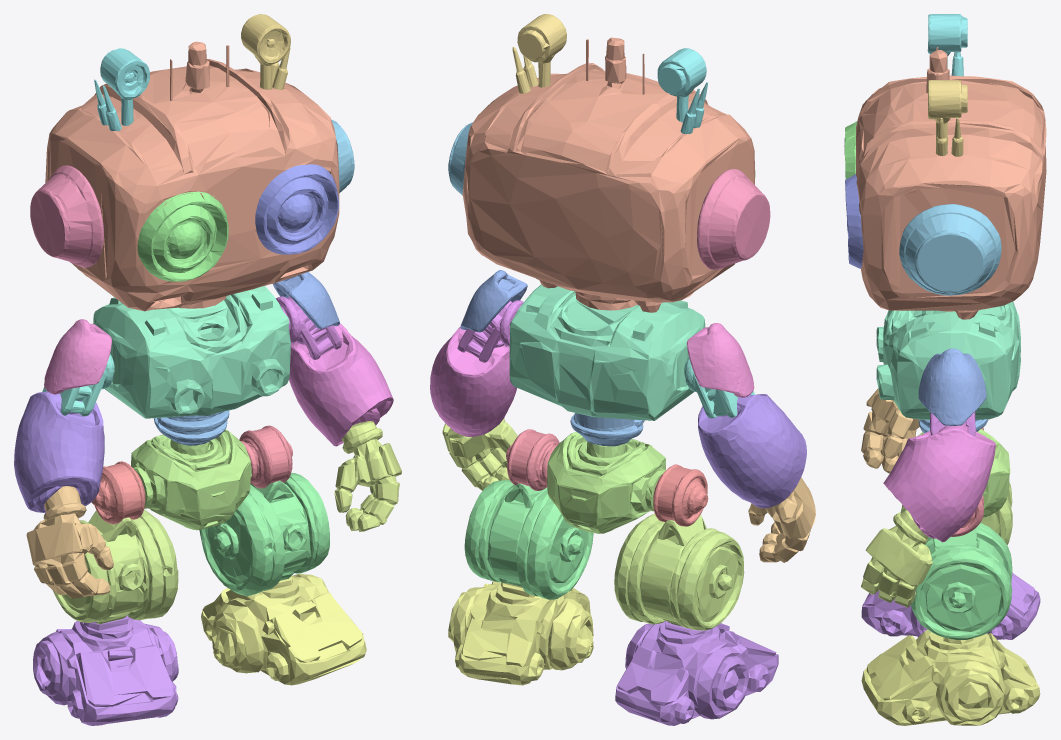
The model's file is 2.robot.glb.
3 renders of one model, left to right at view 1: azimuth 30°, elevation 25°; view 2: azimuth 150°, elevation 25°; view 3: azimuth 270°, elevation 25°, orthographic. The views are drawn at different scales.
Parts seen in each view (by area): view 1: robot__geometry_18_046, robot__geometry_19_044, robot__geometry_20_035, robot__geometry_12_093, robot__geometry_11_093, robot__geometry_16_073, robot__geometry_7_096, robot__geometry_3_097, robot__geometry_6_096, robot__geometry_23_018, robot__geometry_4_096, robot__geometry_17_054 (+12 smaller); view 2: robot__geometry_18_046, robot__geometry_19_044, robot__geometry_12_093, robot__geometry_7_096, robot__geometry_20_035, robot__geometry_11_093, robot__geometry_16_073, robot__geometry_3_097, robot__geometry_6_096, robot__geometry_22_018, robot__geometry_15_079, robot__geometry_4_096 (+10 smaller); view 3: robot__geometry_18_046, robot__geometry_20_035, robot__geometry_19_044, robot__geometry_11_093, robot__geometry_6_096, robot__geometry_21_018, robot__geometry_0_097, robot__geometry_8_096, robot__geometry_12_093, robot__geometry_4_096, robot__geometry_13_093, robot__geometry_14_079 (+6 smaller).
Boxes of the visible parts, x1=… form: robot__geometry_18_046: x1=45, y1=41, x2=339, y2=311; robot__geometry_19_044: x1=93, y1=286, x2=290, y2=418; robot__geometry_20_035: x1=201, y1=574, x2=366, y2=685; robot__geometry_12_093: x1=33, y1=615, x2=178, y2=725; robot__geometry_11_093: x1=199, y1=473, x2=329, y2=596; robot__geometry_16_073: x1=131, y1=429, x2=251, y2=530; robot__geometry_7_096: x1=53, y1=509, x2=178, y2=624; robot__geometry_3_097: x1=14, y1=391, x2=104, y2=512; robot__geometry_6_096: x1=289, y1=323, x2=393, y2=446; robot__geometry_23_018: x1=137, y1=191, x2=228, y2=281; robot__geometry_4_096: x1=26, y1=486, x2=113, y2=598; robot__geometry_17_054: x1=255, y1=164, x2=338, y2=254; robot__geometry_18_046: x1=462, y1=37, x2=755, y2=312; robot__geometry_19_044: x1=509, y1=284, x2=705, y2=420; robot__geometry_12_093: x1=615, y1=621, x2=778, y2=725; robot__geometry_7_096: x1=614, y1=513, x2=744, y2=630; robot__geometry_20_035: x1=448, y1=581, x2=593, y2=685; robot__geometry_11_093: x1=464, y1=480, x2=593, y2=599; robot__geometry_16_073: x1=547, y1=432, x2=665, y2=533; robot__geometry_3_097: x1=698, y1=394, x2=806, y2=508; robot__geometry_6_096: x1=430, y1=326, x2=516, y2=437; robot__geometry_22_018: x1=697, y1=169, x2=770, y2=269; robot__geometry_15_079: x1=686, y1=323, x2=754, y2=397; robot__geometry_4_096: x1=748, y1=477, x2=815, y2=562; robot__geometry_18_046: x1=856, y1=47, x2=1046, y2=319; robot__geometry_20_035: x1=861, y1=629, x2=1040, y2=725; robot__geometry_19_044: x1=876, y1=301, x2=1020, y2=419; robot__geometry_11_093: x1=910, y1=523, x2=1012, y2=639; robot__geometry_6_096: x1=883, y1=424, x2=995, y2=542; robot__geometry_21_018: x1=899, y1=204, x2=1001, y2=295; robot__geometry_0_097: x1=861, y1=510, x2=932, y2=607; robot__geometry_8_096: x1=918, y1=348, x2=986, y2=425; robot__geometry_12_093: x1=861, y1=572, x2=1040, y2=639; robot__geometry_4_096: x1=861, y1=388, x2=919, y2=473; robot__geometry_13_093: x1=928, y1=80, x2=967, y2=156; robot__geometry_14_079: x1=927, y1=14, x2=967, y2=76.
Size of the model in its own units: 0.5947 by 1 by 0.2988.
